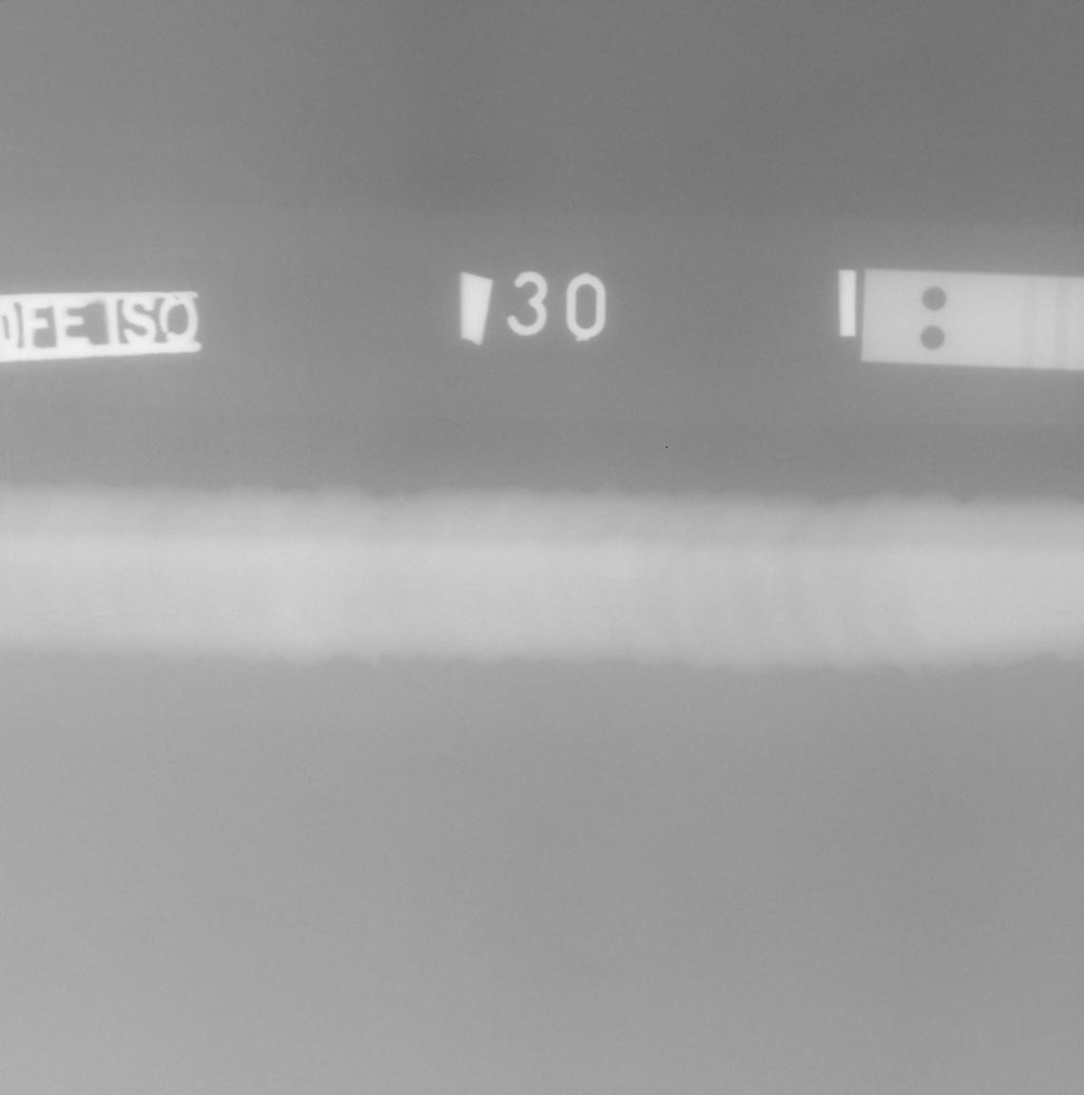Inclusion: (375, 515, 390, 522), (1054, 613, 1070, 616)
